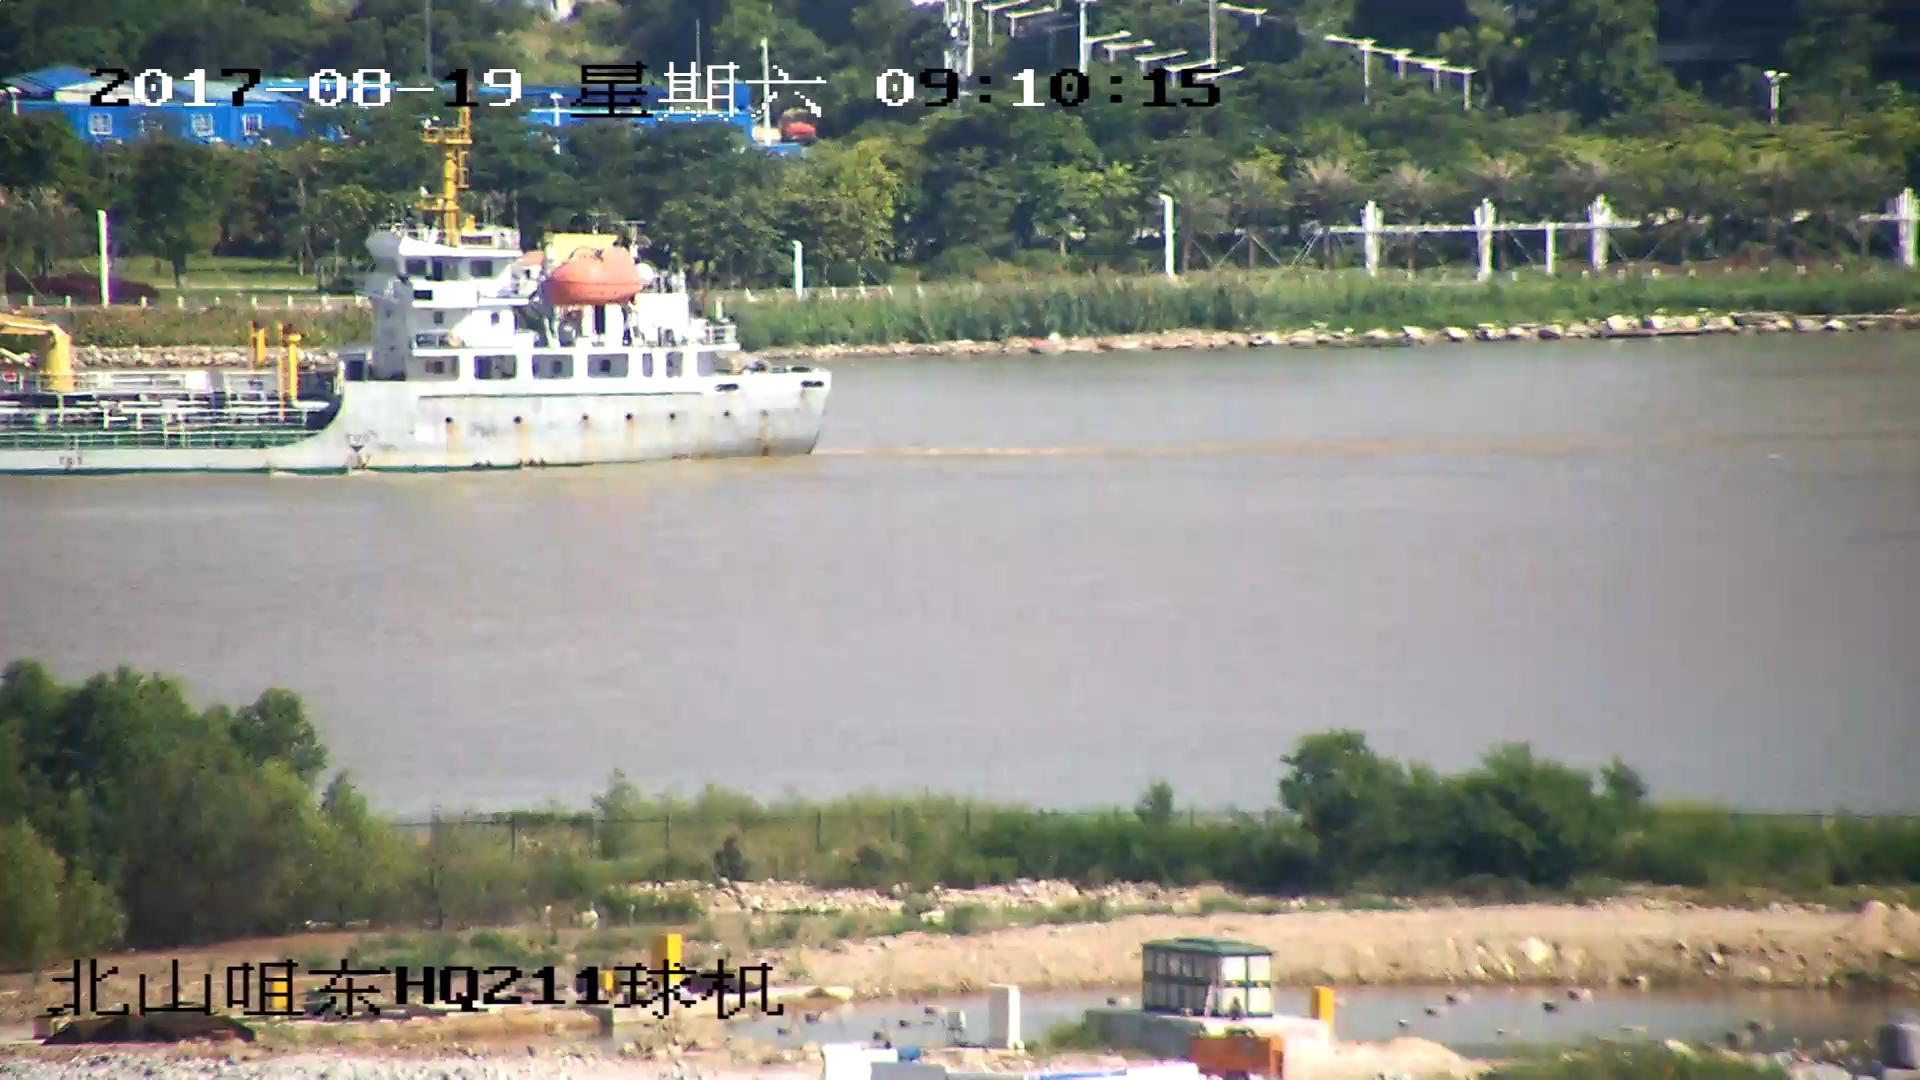Ship: (3, 135, 833, 473)
